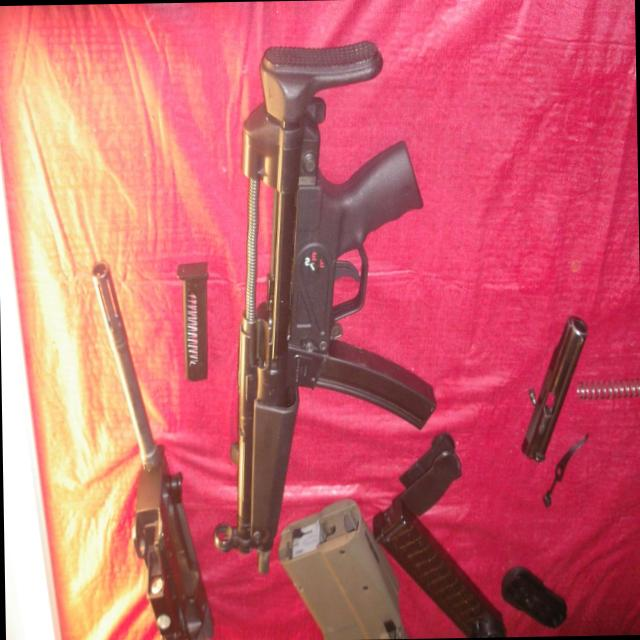Gun: (194, 5, 450, 564)
